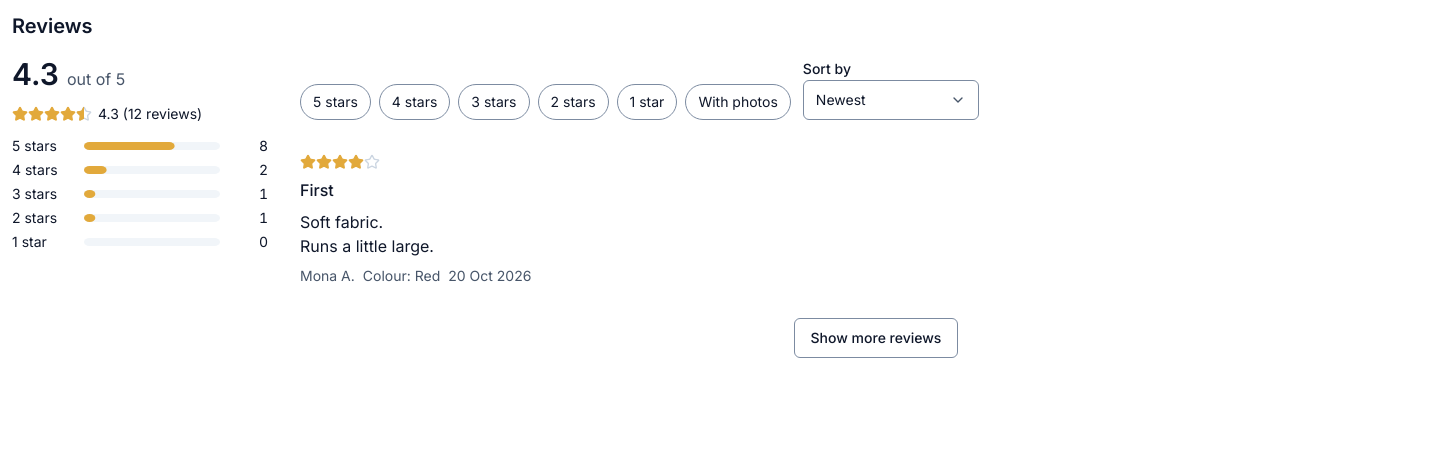
product reviews (spec 01 SF-05-R) › 5 first, then "Show more reviews" asks for 10 with the cursor
The image size is (1452, 466).
Expected: the heading "First" is shown, x1=300 y1=180 x2=334 y2=200
Click the button "Show more reviews": (876, 338) x1=794 y1=318 x2=958 y2=358
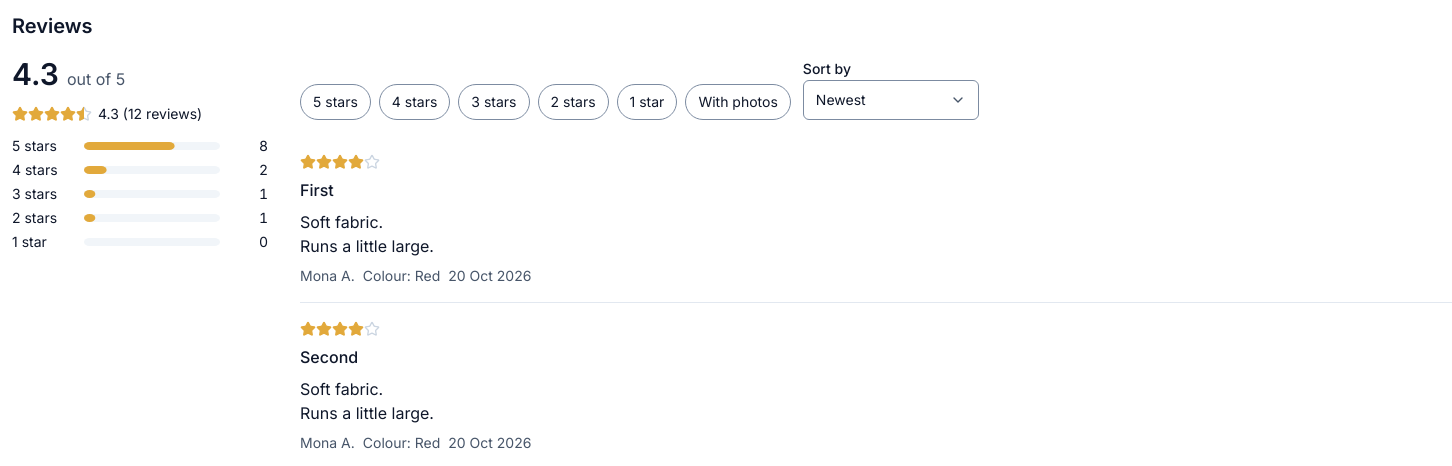
Expected: the heading "Second" is shown, x1=300 y1=347 x2=358 y2=367
Expected: the button "Show more reviews" is gone
